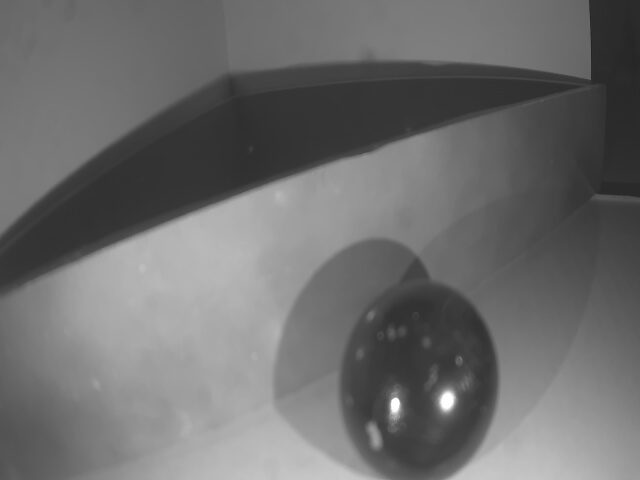Dead: (338, 284, 501, 480)
Green: (0, 86, 607, 480)
